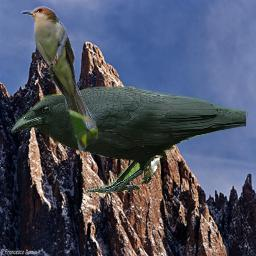Crow: (11, 86, 248, 197)
Cuckoo: (21, 6, 98, 152), (142, 155, 163, 184)
